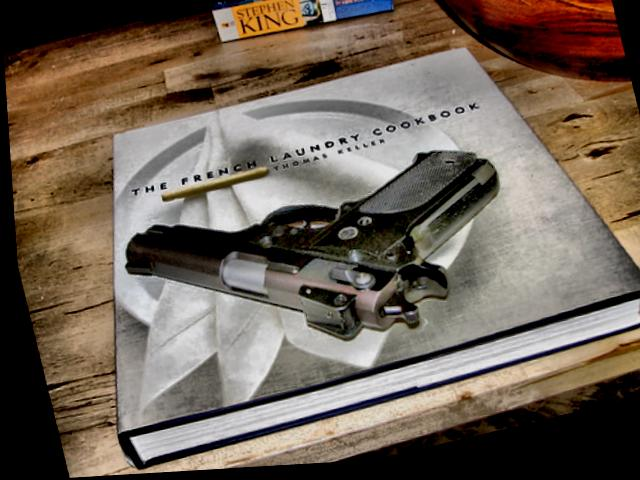pistol: (102, 137, 523, 390)
